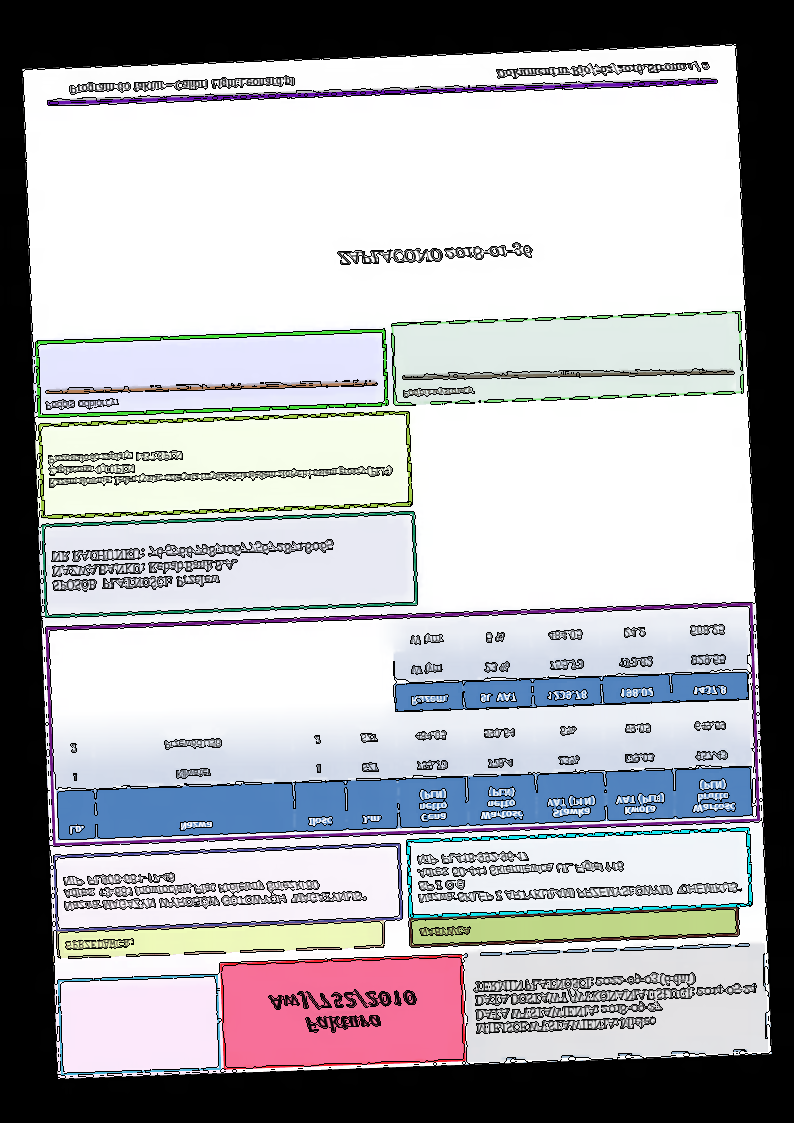Table: (53, 704, 754, 841), (390, 608, 750, 714)
TextBox: (413, 842, 745, 907), (473, 967, 760, 1038), (50, 536, 336, 598), (46, 440, 395, 490), (61, 863, 369, 915), (265, 984, 422, 1038), (67, 73, 297, 99), (334, 241, 538, 270), (495, 57, 711, 84), (44, 396, 121, 417), (63, 936, 136, 955), (399, 385, 474, 402), (416, 924, 474, 942)
